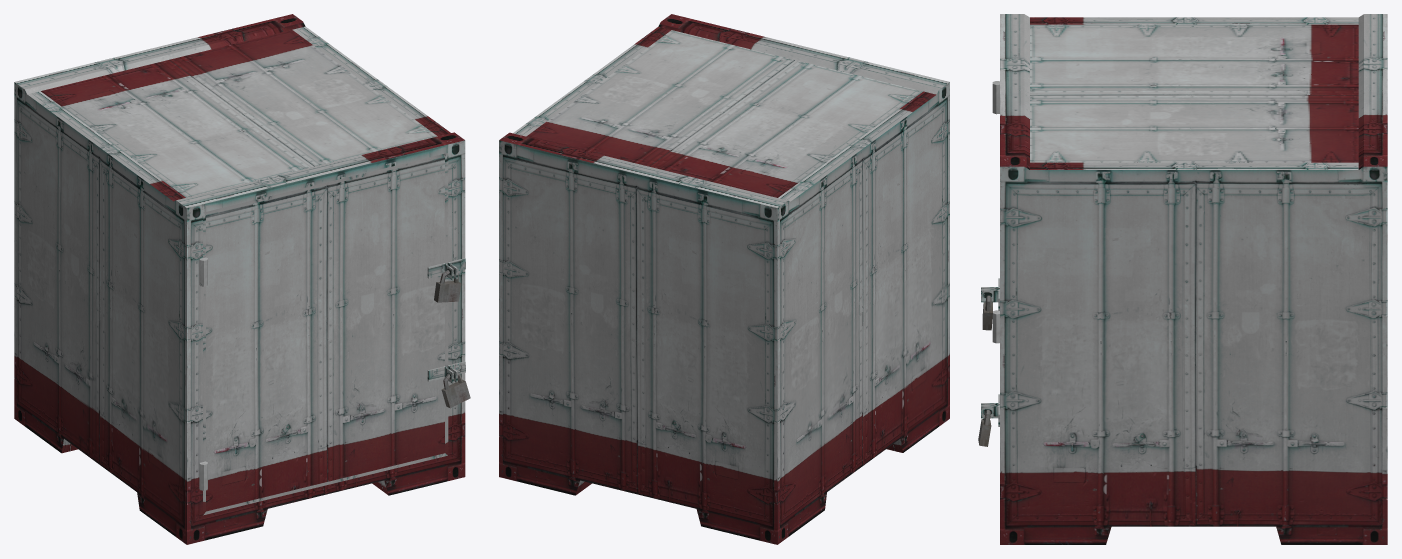
File: Container_Box04.FBX
3 renders of one model, left to right at view 1: azimuth 30°, elevation 25°; view 2: azimuth 150°, elevation 25°; view 3: azimuth 270°, elevation 25°, orthographic. The views are drawn at different scales.
Parts seen in each view (by area): view 1: Container_Box04; view 2: Container_Box04; view 3: Container_Box04.
Part boxes in pixels (x1=…): Container_Box04: x1=14, y1=14, x2=470, y2=544; Container_Box04: x1=499, y1=14, x2=949, y2=544; Container_Box04: x1=978, y1=14, x2=1387, y2=544.
Bounding box in the file's own units: 98.81 × 114 × 112.
